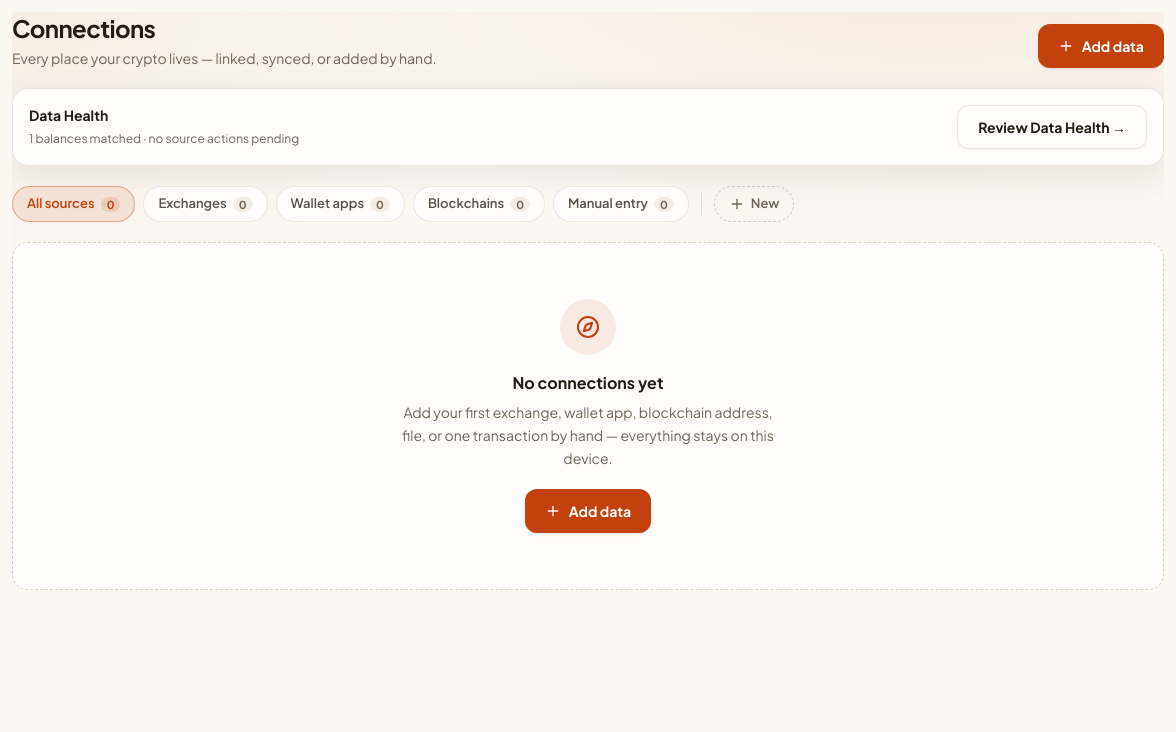
Test case: ConnectionsHome — header & pills › opens and closes the Connections-owned Data Health workspace
Click the button "Review Data Health →". click: (1052, 127)
box: [957,105,1147,149]
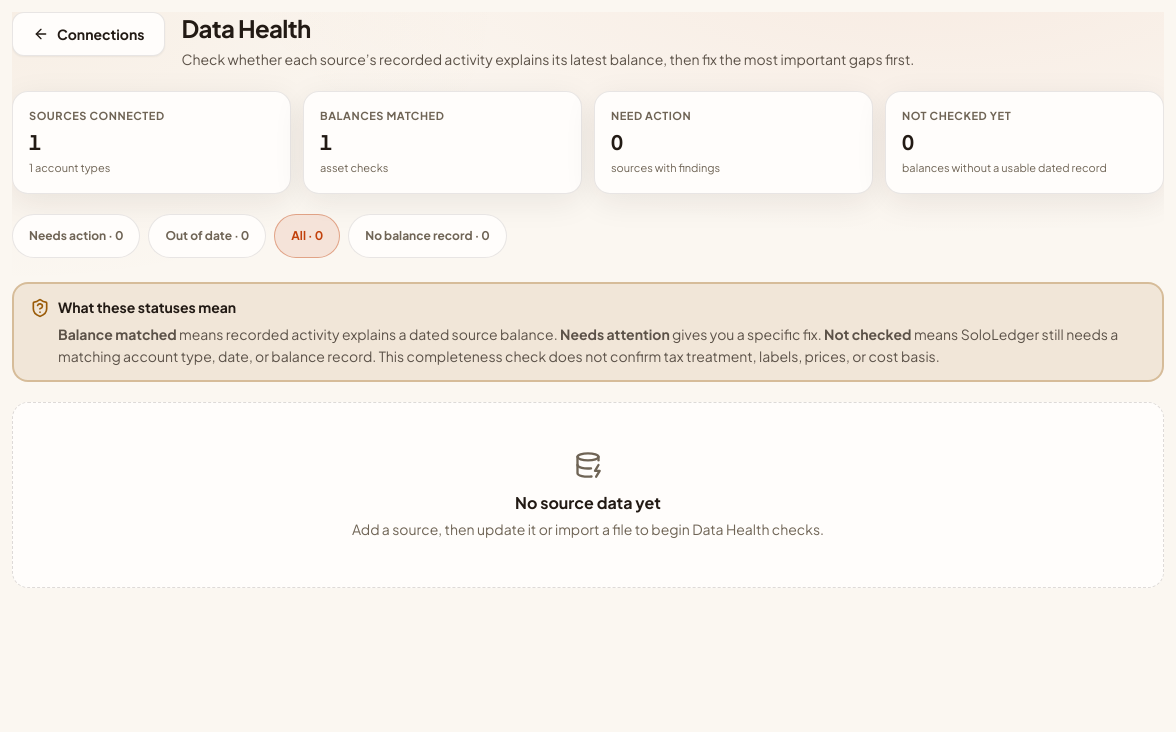
Now the heading "Data Health" is shown, box [182,13,311,43]
Click the button "Connections". click: (89, 34)
box: [12,12,166,56]
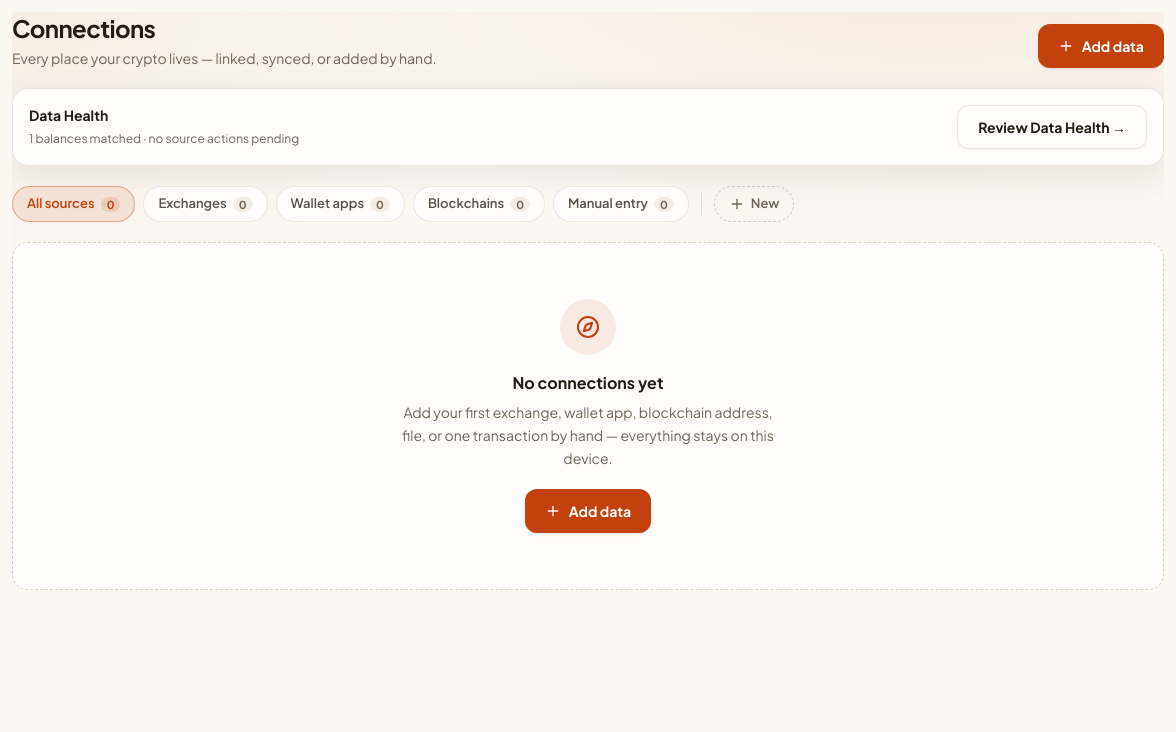
Now the heading "Connections" is shown, box [12,13,155,43]
